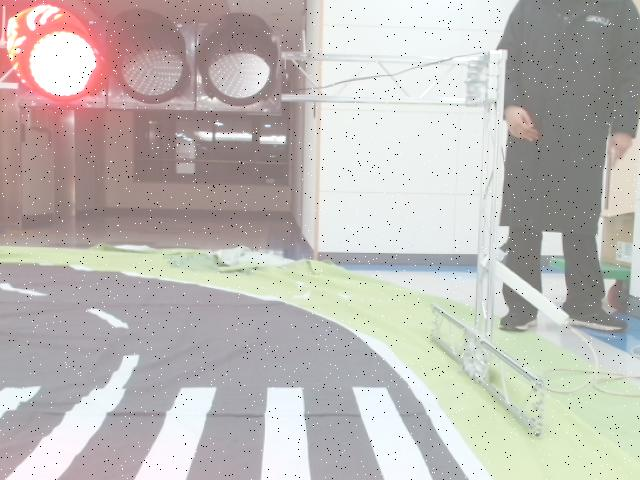crosswalk: (0, 384, 468, 480)
traffic light-red-: (9, 7, 282, 115)
